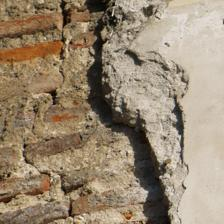Crack: (0, 3, 193, 115), (32, 56, 142, 138)
